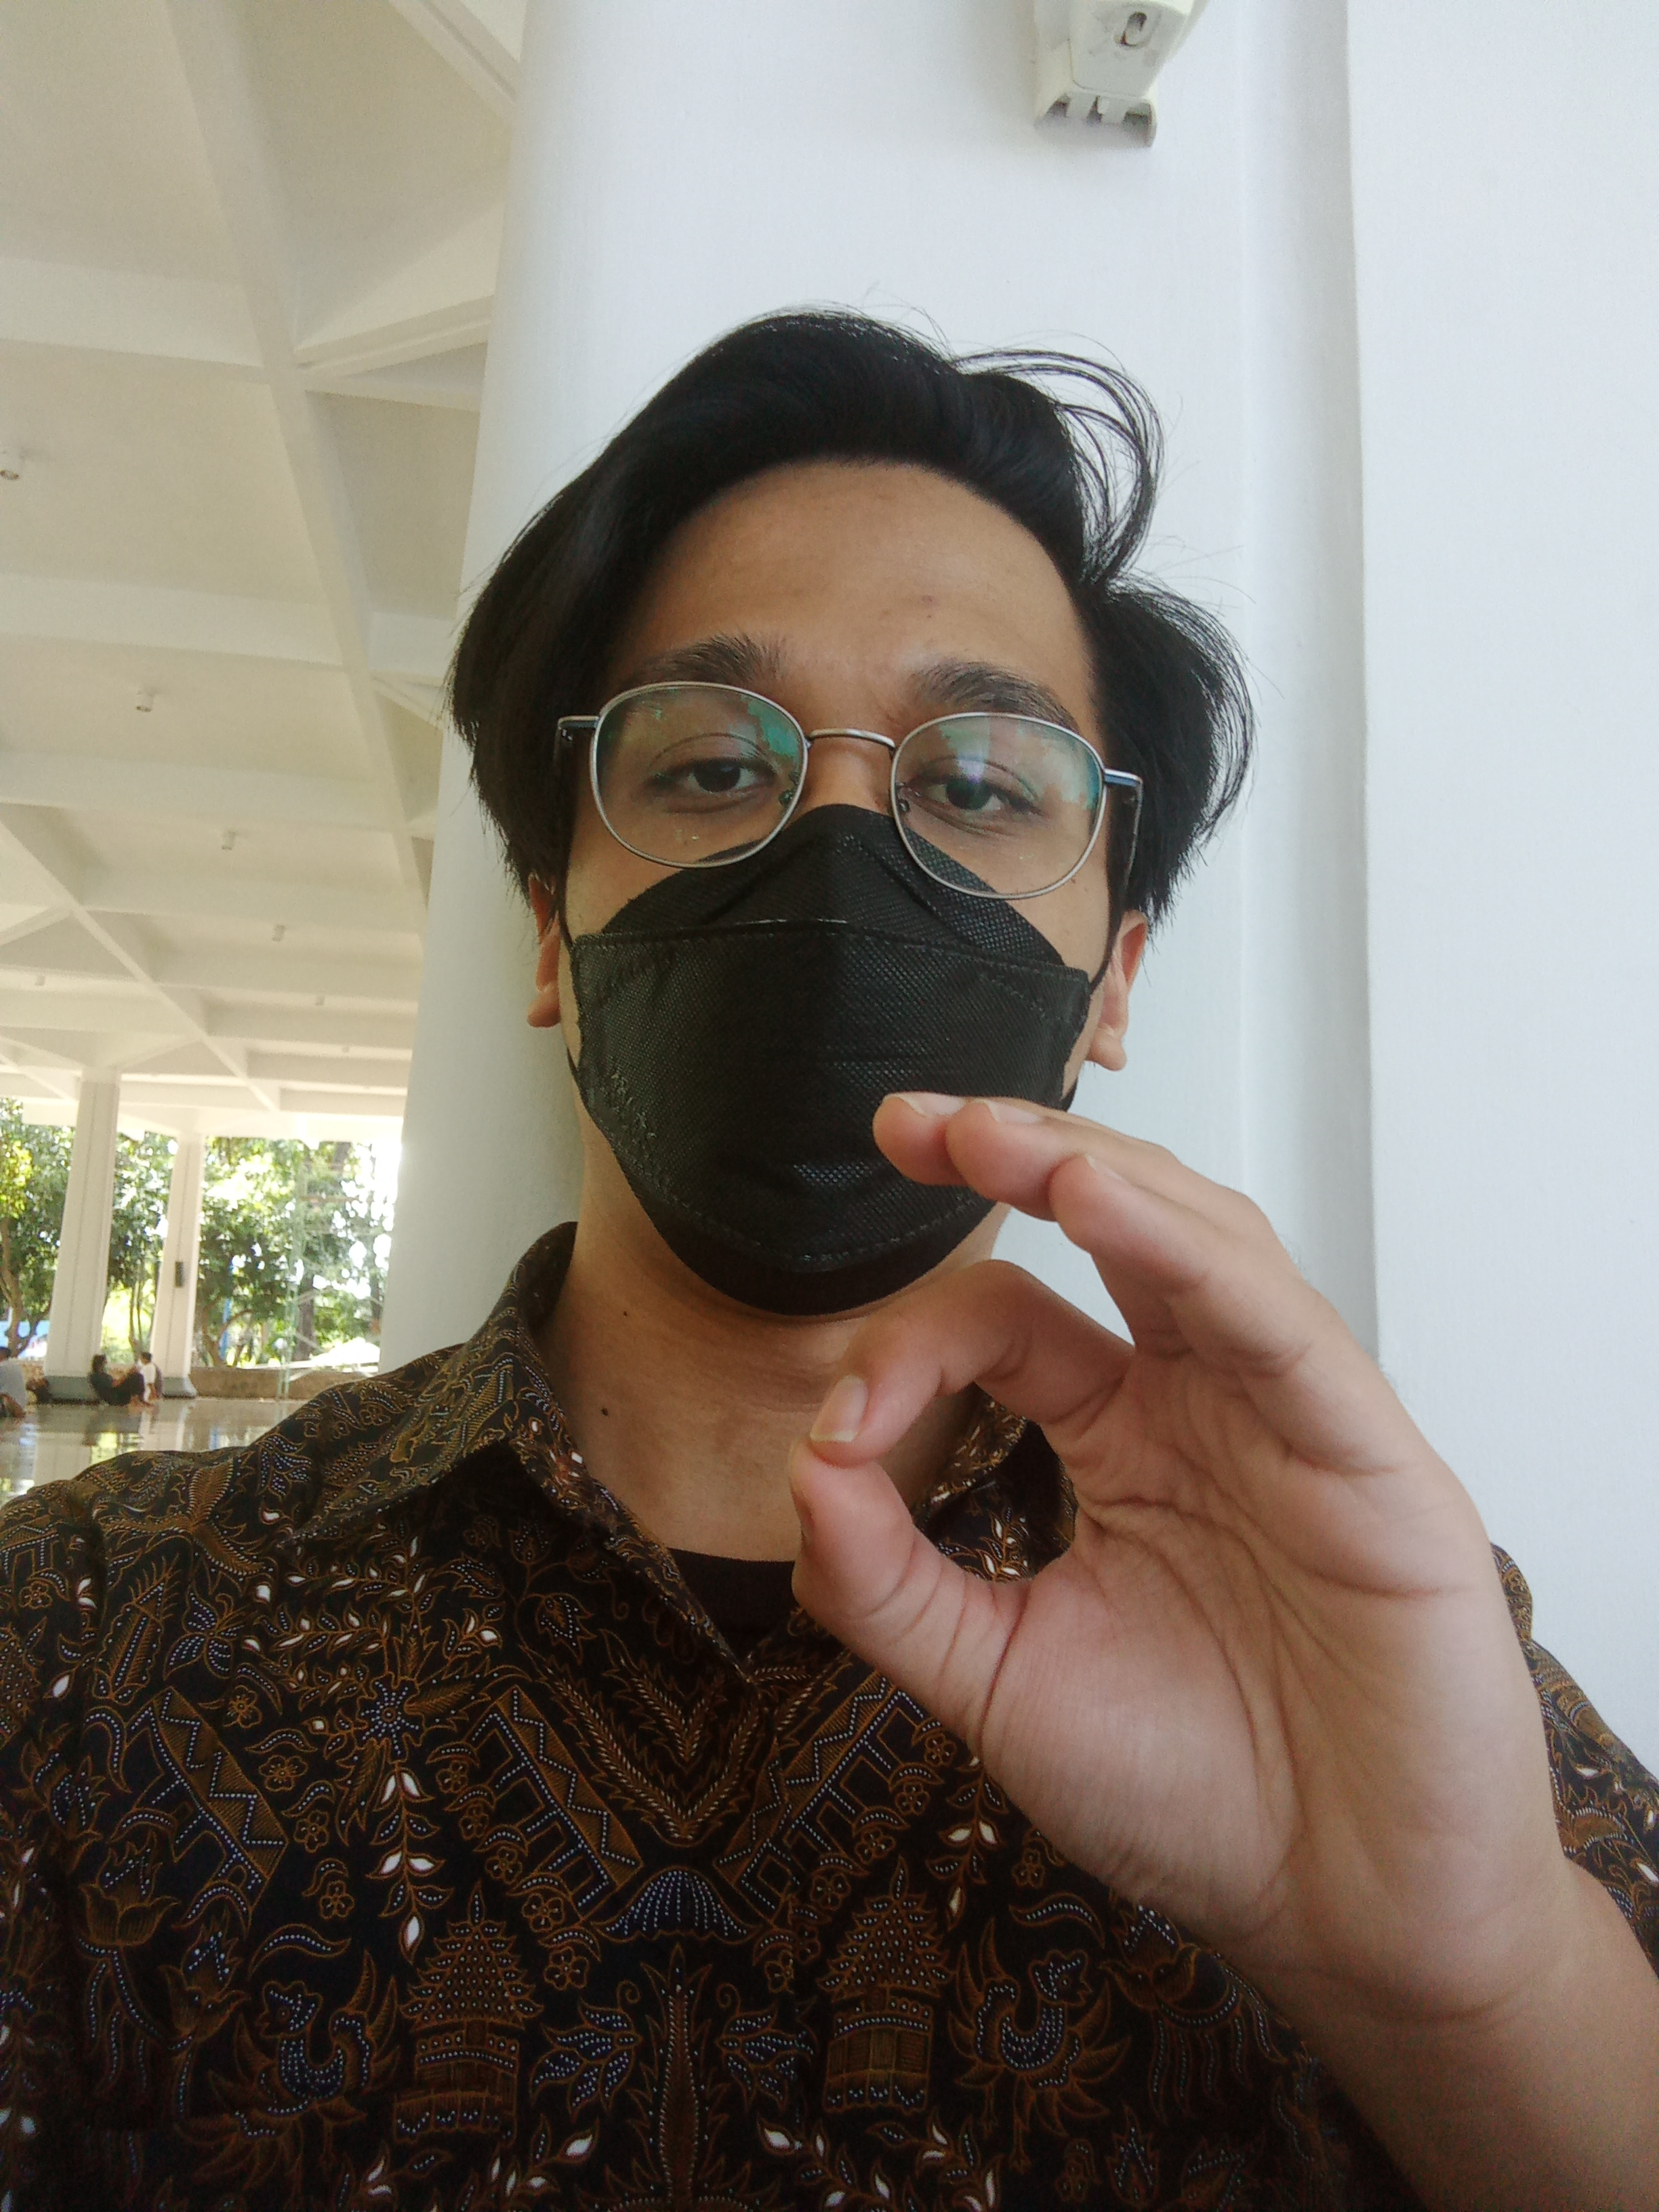O: (777, 1062, 1659, 2000)
